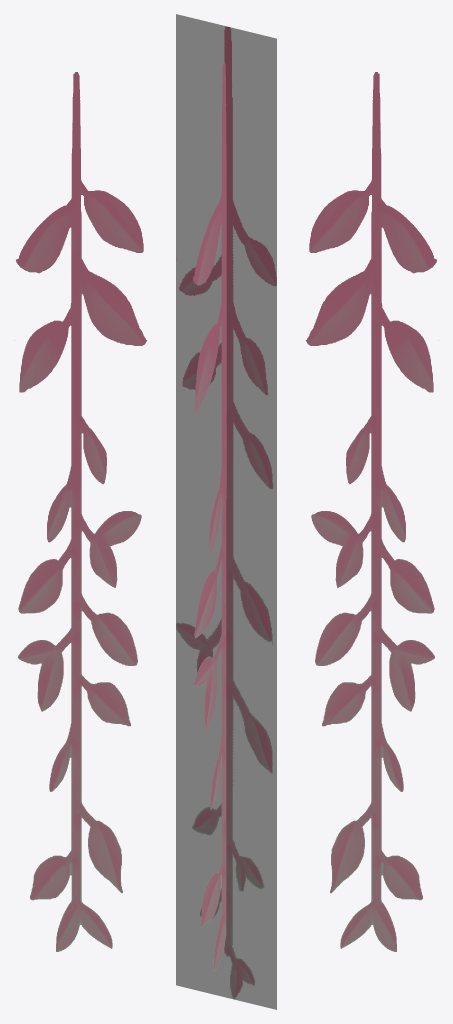
Rendered from M_plante_arbre_4.FBX.
The picture shows the model from 3 angles, left to right: view 1: azimuth 90°, elevation 25°; view 2: azimuth 150°, elevation 25°; view 3: azimuth 270°, elevation 25°; orthographic projection. The views are drawn at different scales.
Parts seen in each view (by area): view 1: Plane193; view 2: Plane191, Plane193; view 3: Plane193.
Part boxes in pixels (left/top/right/bottom): Plane193: left=14, top=72, right=147, bottom=951; Plane191: left=176, top=14, right=276, bottom=1009; Plane193: left=193, top=62, right=226, bottom=971; Plane193: left=305, top=72, right=438, bottom=951.
Size of the model in its own units: 142 by 1305 by 166.
